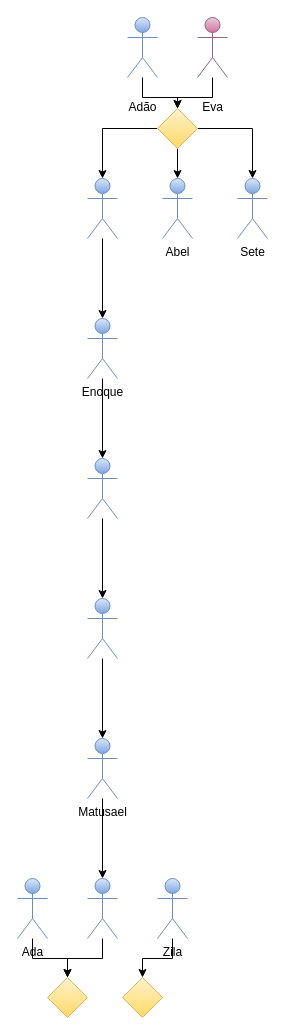
Some shapes in this 285 by 1035 pixel diagram are drawn without their labels. The centre of each missing label's shape, as x and y in pixels:
"Caim" goes at [102,208].
"Irade" goes at [102,488].
"Lemeque" goes at [102,908].
"Meujael" goes at [102,628].
